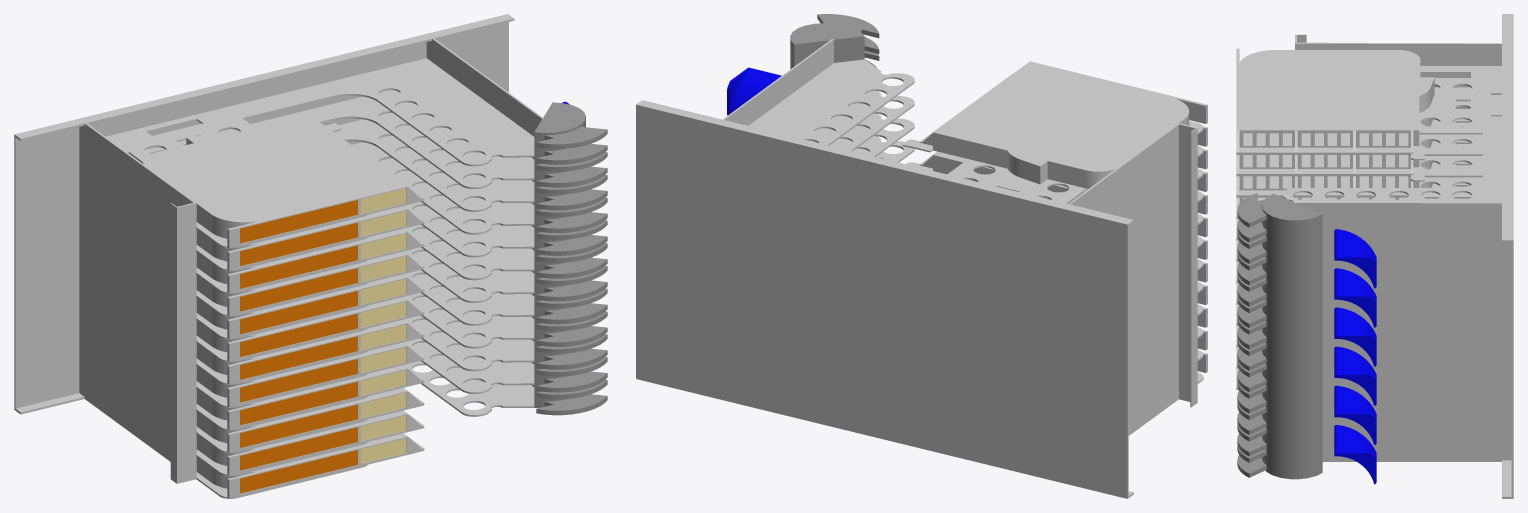
File: Chassis-LISA-6U-L.glb
The picture shows the model from 3 angles, left to right: view 1: azimuth 30°, elevation 25°; view 2: azimuth 150°, elevation 25°; view 3: azimuth 270°, elevation 25°; orthographic projection. The views are drawn at different scales.
Parts seen in each view (by area): view 1: Geom3D (×49), Geom3D_ (×17); view 2: Geom3D_ (×6), Geom3D (×5); view 3: Geom3D_ (×34), Geom3D (×9).
Part boxes in pixels (x1=…): Geom3D (×49): x1=15, y1=19, x2=534, y2=498; Geom3D_ (×17): x1=14, y1=14, x2=607, y2=483; Geom3D_ (×6): x1=636, y1=14, x2=1197, y2=498; Geom3D (×5): x1=748, y1=59, x2=1207, y2=203; Geom3D_ (×34): x1=1237, y1=14, x2=1513, y2=498; Geom3D (×9): x1=1236, y1=48, x2=1511, y2=496.
Bounding box in the file's own units: 0.5 × 0.2673 × 0.2592.
